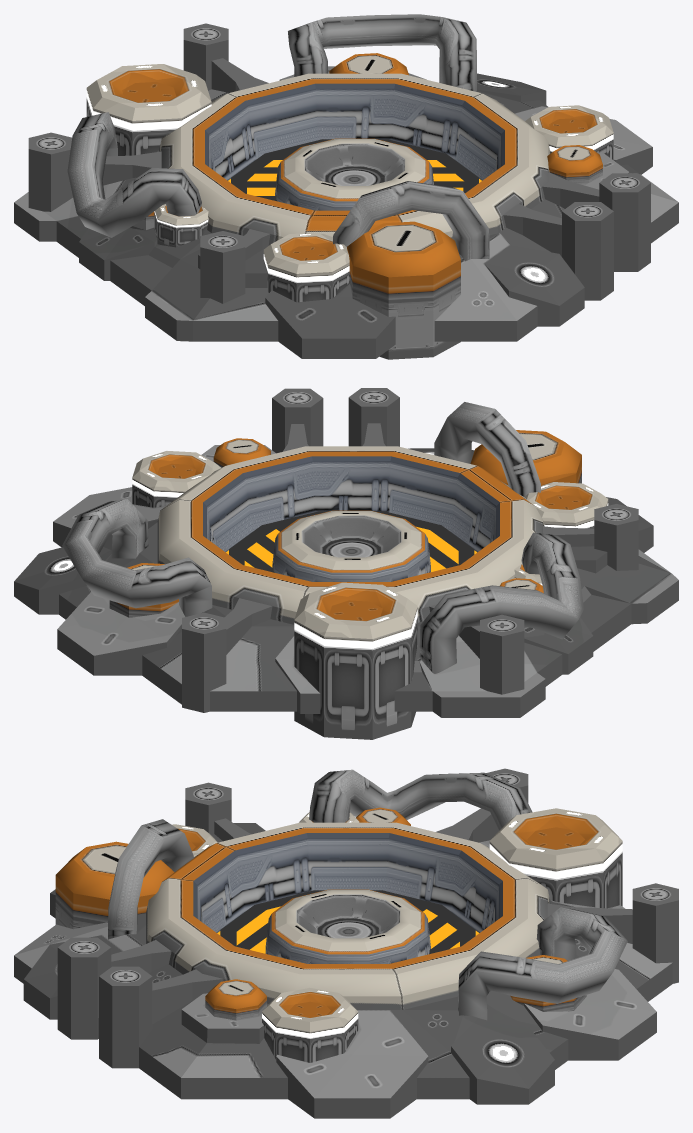
File: geothermal-plant.glb
3 renders of one model, top to bottom at view 1: azimuth 30°, elevation 25°; view 2: azimuth 150°, elevation 25°; view 3: azimuth 270°, elevation 25°, orthographic. The views are drawn at different scales.
Visible parts, largest first — view 1: Cylinder.011; view 2: Cylinder.011; view 3: Cylinder.011.
Part boxes in pixels (x1,y1,x2,y2): Cylinder.011: [14, 14, 678, 359]; Cylinder.011: [14, 388, 678, 739]; Cylinder.011: [14, 768, 678, 1118].
Bounding box in the file's own units: 47.87 × 12.45 × 49.73.
Materials: 1 (1 with a texture image).
